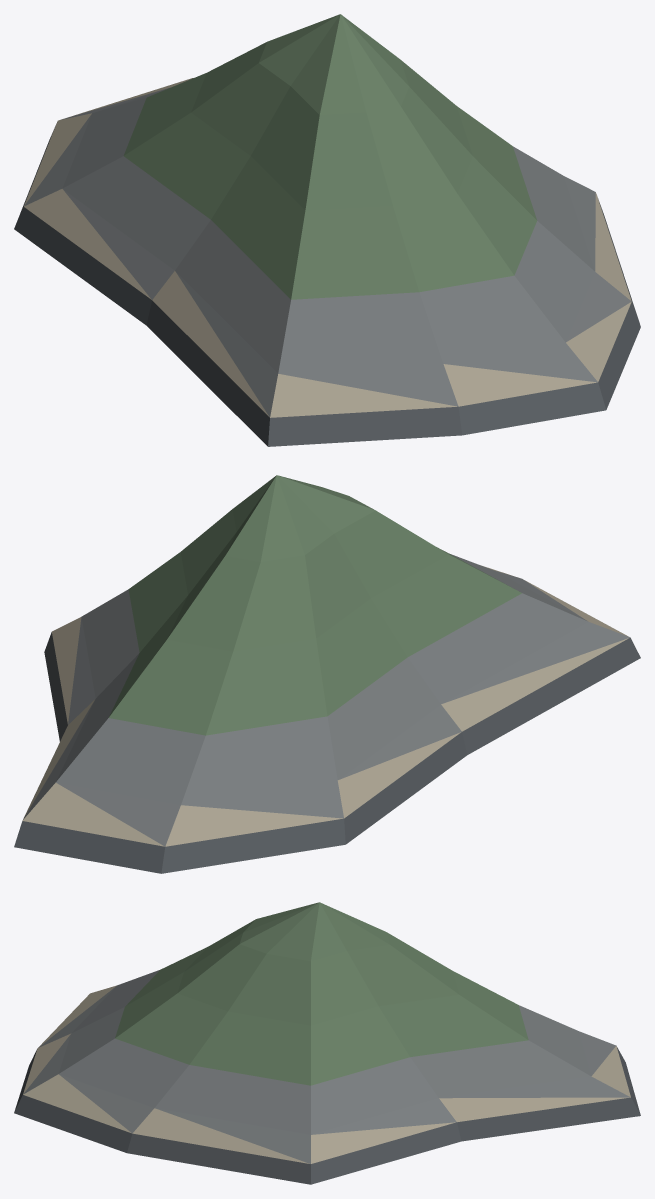
File: chain_town_lod1.glb
3 views of the same model, one above another, from view 1: azimuth 30°, elevation 25°; view 2: azimuth 150°, elevation 25°; view 3: azimuth 270°, elevation 25° (orthographic). The views are drawn at different scales.
Bounding box in the file's own units: 1.62 × 0.8579 × 2.44.
